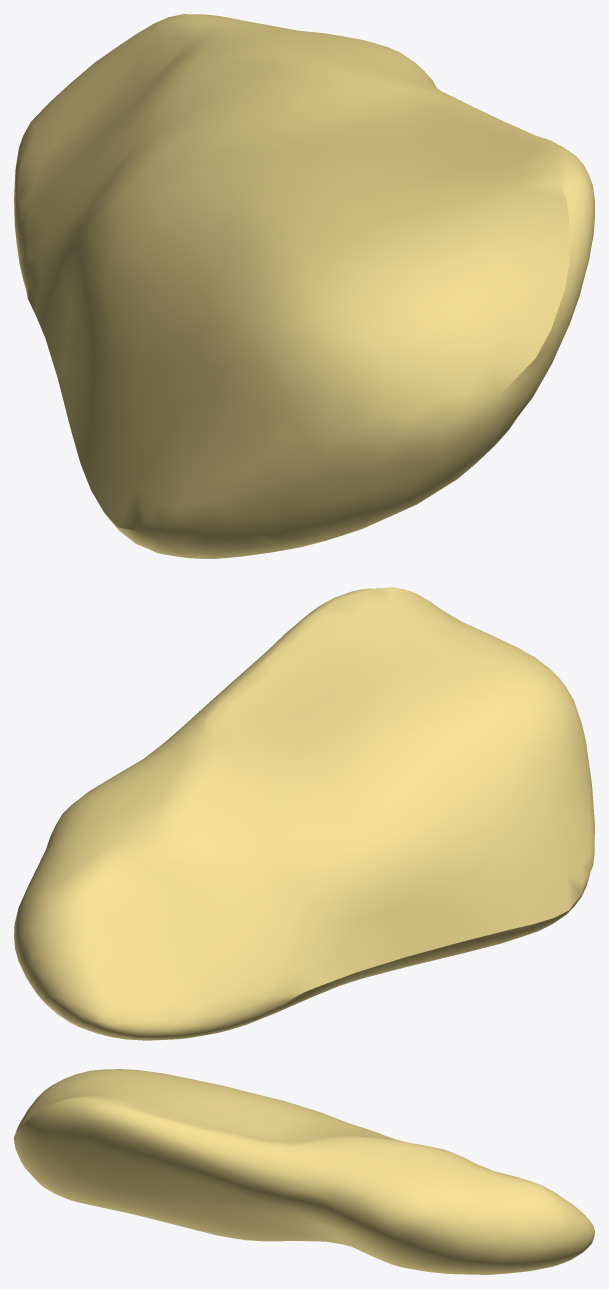
Rendered from fma77383-r_mm2858m.glb.
3 views of the same model, one above another, from view 1: azimuth 30°, elevation 25°; view 2: azimuth 150°, elevation 25°; view 3: azimuth 270°, elevation 25° (orthographic). The views are drawn at different scales.
Parts seen in each view (by area): view 1: FMA77383-R_MM2858M; view 2: FMA77383-R_MM2858M; view 3: FMA77383-R_MM2858M.
Part boxes in pixels (bbox=[...]): FMA77383-R_MM2858M: bbox=[14, 14, 594, 558]; FMA77383-R_MM2858M: bbox=[14, 587, 594, 1040]; FMA77383-R_MM2858M: bbox=[14, 1069, 594, 1274].
Size of the model in its own units: 0.00987 by 0.00648 by 0.0176.
